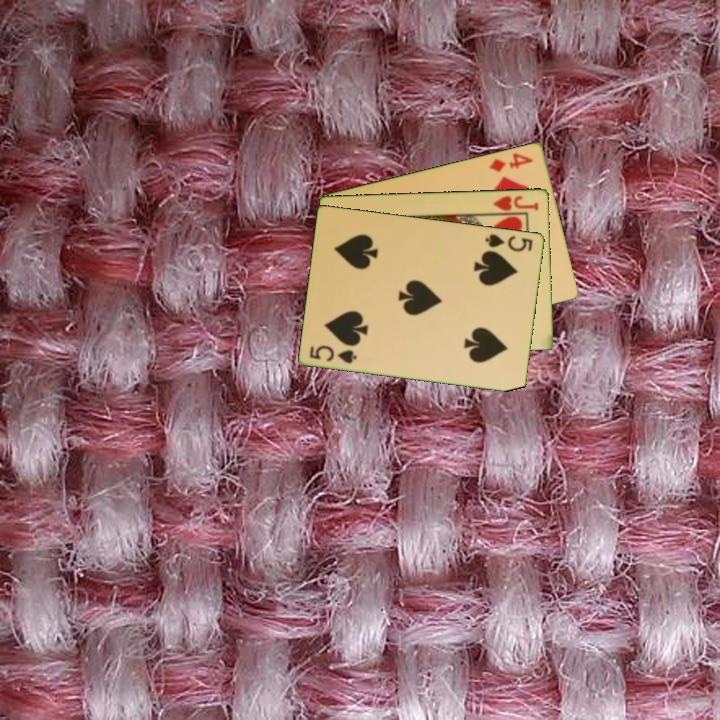4d: (485, 149, 536, 175)
5s: (306, 341, 360, 366), (482, 230, 536, 254)
Jh: (486, 192, 542, 216)
